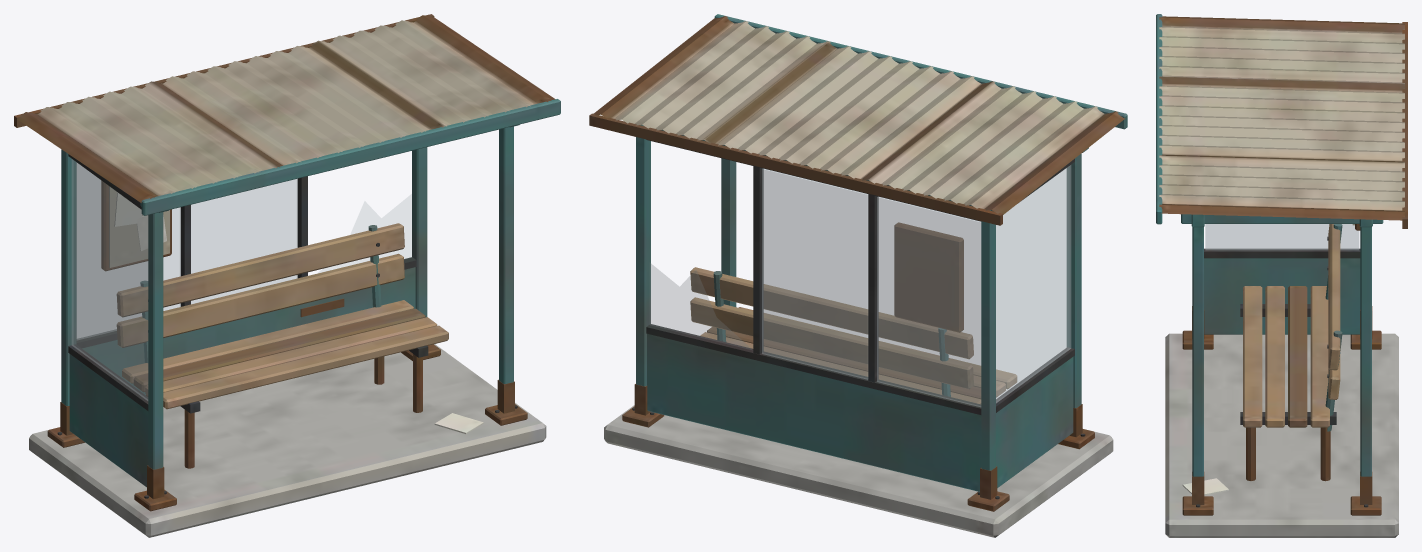
Rendered from R12_bus_stop_shelter.glb.
The picture shows the model from 3 angles, left to right: view 1: azimuth 30°, elevation 25°; view 2: azimuth 150°, elevation 25°; view 3: azimuth 270°, elevation 25°; orthographic projection. The views are drawn at different scales.
Visible parts, largest first — view 1: Weathered foundation; view 2: Weathered foundation; view 3: Weathered foundation.
Boxes of the visible parts, <box> form: Weathered foundation: <box>14,14,560,537</box>; Weathered foundation: <box>589,14,1127,537</box>; Weathered foundation: <box>1156,14,1407,537</box>.
Bounding box in the file's own units: 3 × 2.37 × 1.62.
9 materials, 8 textured.
